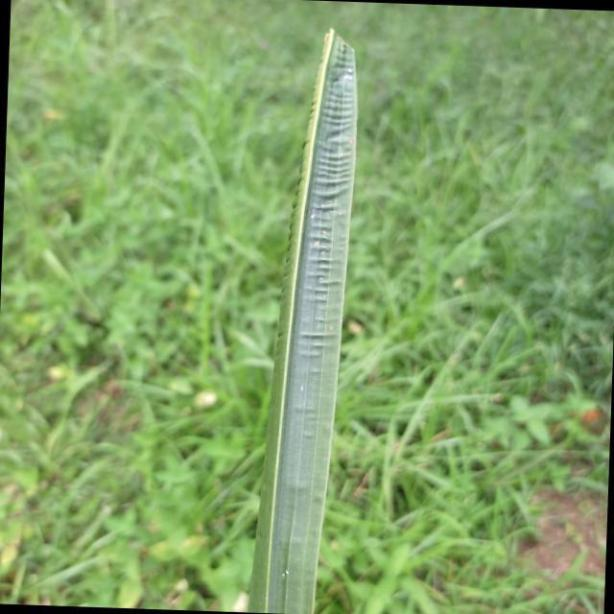Boron: (245, 21, 361, 614)
